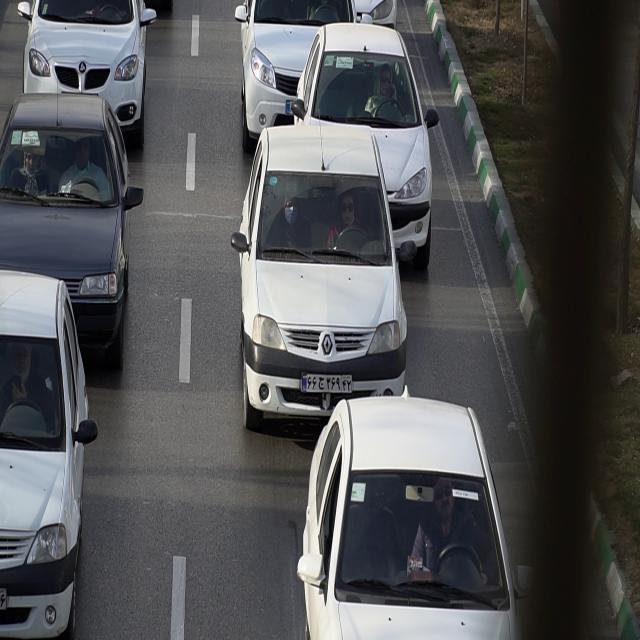car: (298, 394, 532, 634), (235, 123, 409, 432), (0, 94, 142, 352), (292, 28, 438, 262), (0, 273, 94, 632), (233, 3, 369, 145), (15, 1, 156, 126)
